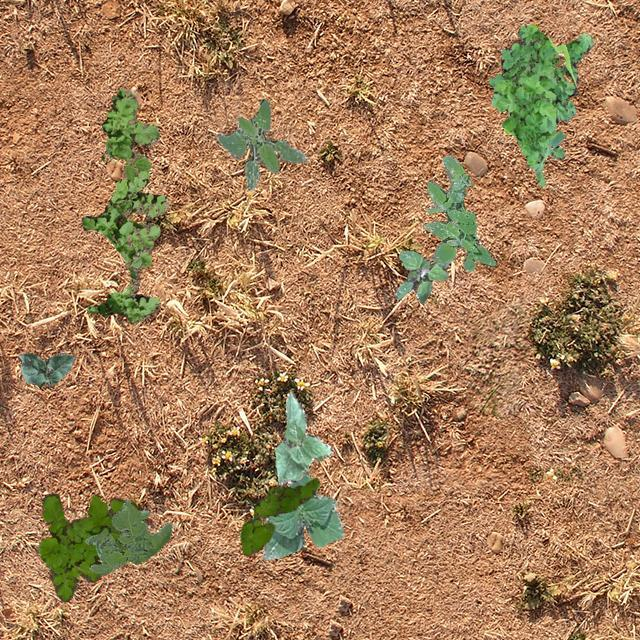crop: (262, 471, 342, 558), (274, 392, 332, 484), (16, 352, 74, 386)
weed: (80, 89, 168, 322), (488, 23, 592, 185), (37, 492, 126, 600), (422, 154, 496, 270), (216, 98, 304, 190), (85, 498, 172, 574), (238, 476, 318, 554), (394, 250, 454, 302)
